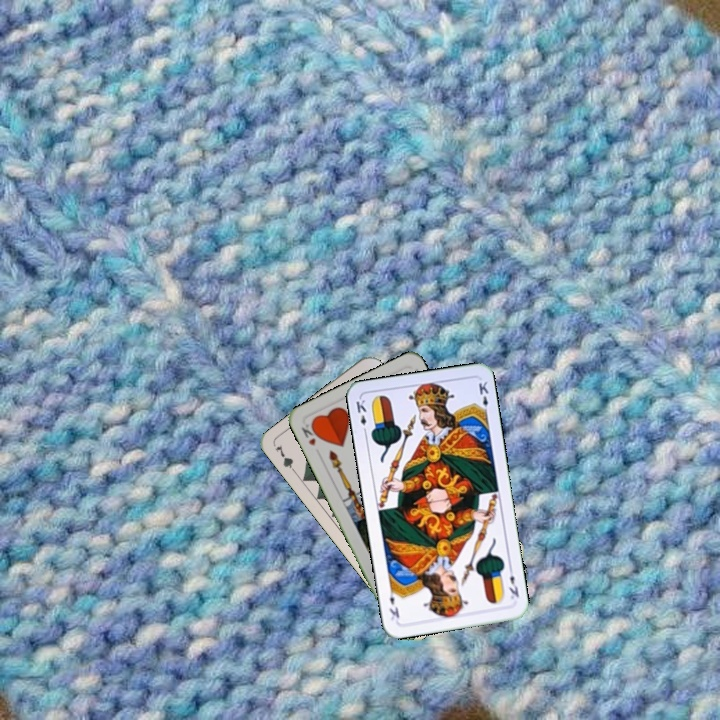EK: (352, 396, 369, 436), (505, 563, 522, 602)
G7: (271, 440, 300, 478)
HK: (297, 419, 322, 449)
